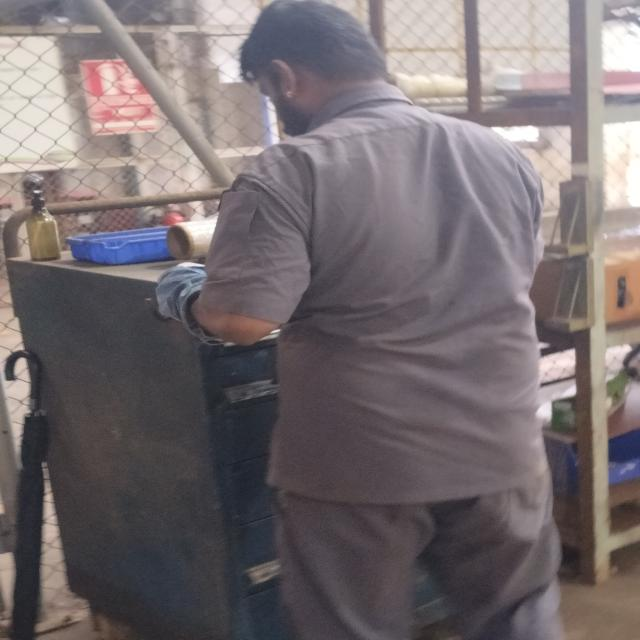Gloves-Detection: (155, 260, 209, 327)
